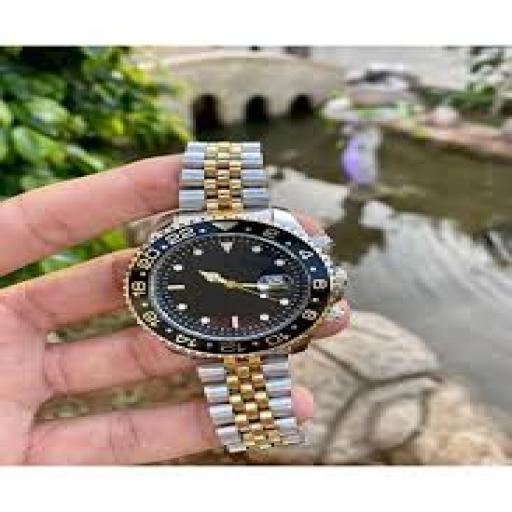KolSaati: (102, 113, 374, 465)
